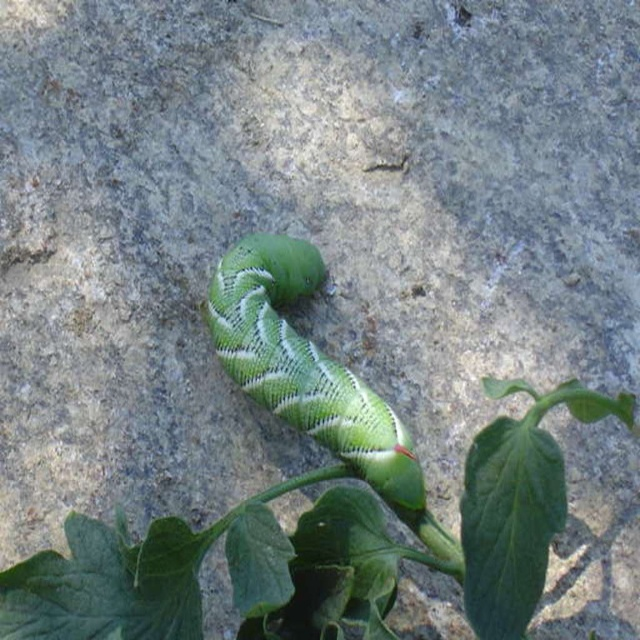Caterpillar: (206, 229, 426, 512)
